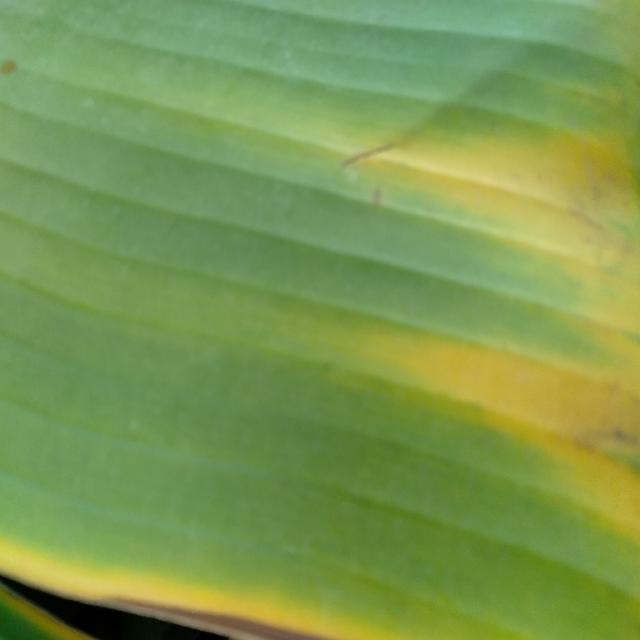Cordana: (212, 36, 640, 555), (0, 511, 389, 640)
